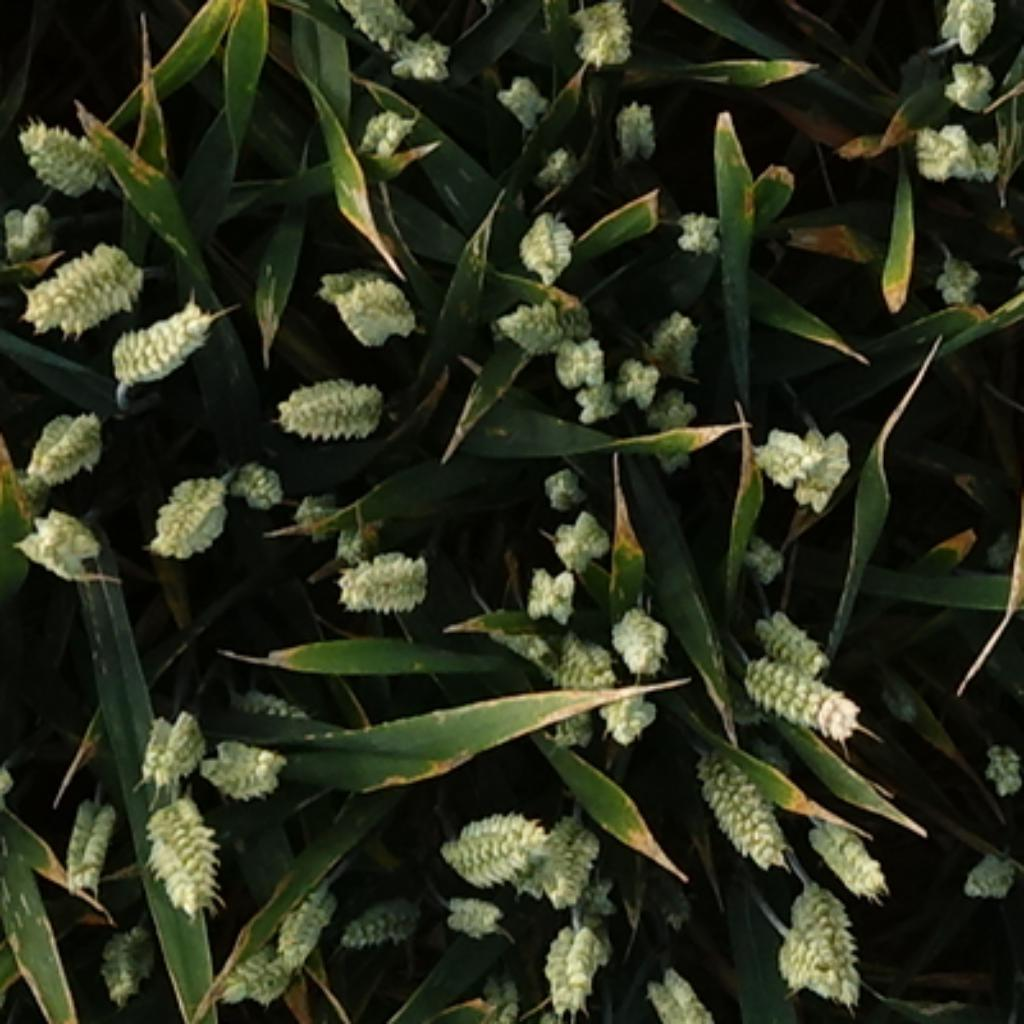0-0: (768, 872, 869, 1006), (17, 227, 151, 327), (686, 737, 793, 862), (739, 654, 872, 746), (215, 898, 330, 1000), (135, 788, 225, 906), (432, 796, 552, 883), (104, 291, 217, 381), (12, 102, 125, 192), (314, 250, 422, 340), (268, 360, 391, 437), (468, 798, 565, 885), (151, 473, 235, 570), (330, 535, 435, 611), (20, 396, 110, 483), (803, 803, 888, 888), (537, 923, 611, 1020), (532, 803, 601, 903), (21, 505, 108, 584), (92, 906, 166, 998), (335, 878, 427, 947), (494, 286, 593, 350), (58, 785, 120, 883), (197, 724, 284, 793), (755, 414, 826, 494), (135, 698, 204, 780), (793, 424, 855, 514), (222, 678, 325, 732), (747, 604, 832, 668), (273, 878, 335, 962), (634, 842, 693, 929), (514, 210, 580, 282), (540, 624, 614, 688), (606, 600, 670, 672), (647, 957, 714, 1024), (640, 302, 704, 371), (565, 0, 637, 61), (5, 199, 64, 268), (550, 509, 616, 570), (327, 0, 419, 43), (352, 103, 419, 162), (593, 687, 660, 744), (960, 844, 1024, 903), (220, 445, 284, 504), (545, 325, 606, 386), (926, 244, 985, 306), (521, 561, 580, 622), (934, 0, 1000, 53), (604, 348, 663, 407), (386, 23, 450, 76), (909, 125, 967, 182), (939, 48, 998, 104), (606, 92, 660, 153), (545, 688, 596, 752), (975, 737, 1024, 799), (732, 524, 785, 581), (668, 199, 727, 250), (327, 517, 391, 563), (440, 883, 501, 931), (486, 960, 529, 1024), (532, 135, 588, 184), (494, 69, 550, 117), (570, 373, 619, 422), (540, 458, 588, 506), (650, 389, 698, 437), (960, 138, 1011, 181), (296, 491, 337, 542)
